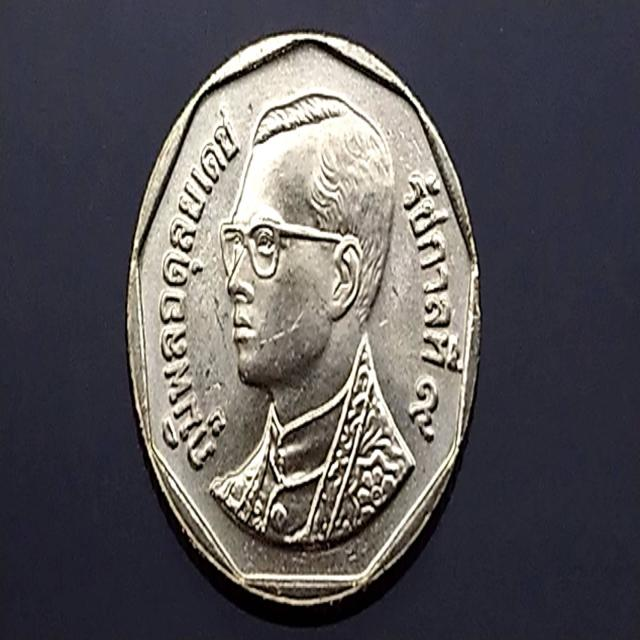5 Bath: (124, 27, 486, 625)
